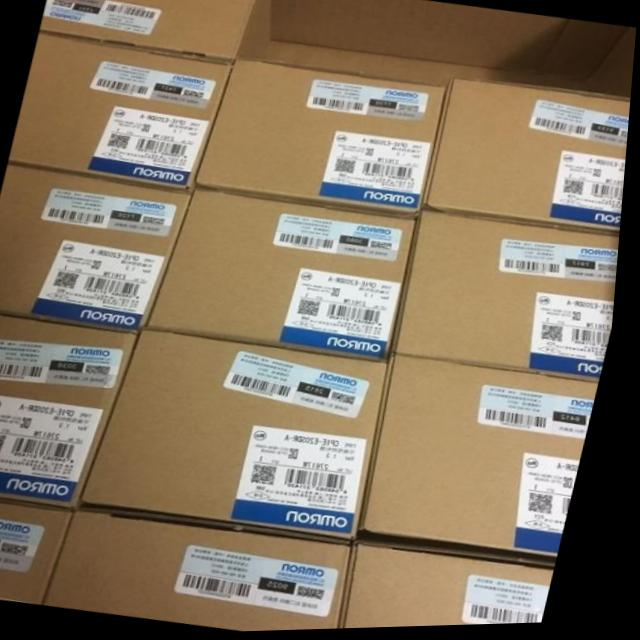box: (87, 329, 394, 543), (368, 356, 606, 565), (150, 190, 420, 368), (198, 58, 450, 224), (53, 502, 363, 633), (397, 210, 624, 386), (268, 0, 637, 103), (10, 34, 234, 193), (0, 162, 195, 335), (425, 79, 633, 238), (0, 314, 144, 509), (349, 539, 566, 631), (39, 0, 272, 64), (0, 497, 83, 605)
